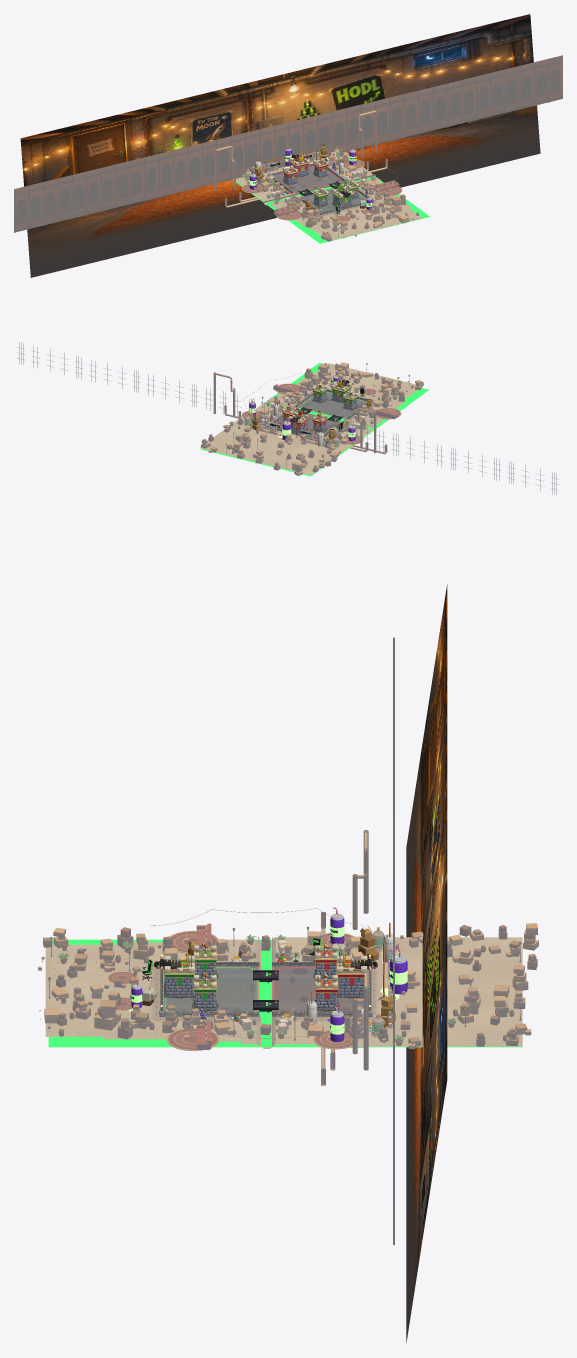
Rendered from arena_basement.glb.
3 views of the same model, one above another, from view 1: azimuth 30°, elevation 25°; view 2: azimuth 150°, elevation 25°; view 3: azimuth 270°, elevation 25° (orthographic). The views are drawn at different scales.
Visible parts, largest first — view 1: mesh (×21); view 2: mesh (×18); view 3: mesh (×17), body (×2).
Boxes of the visible parts, <box> form: mesh (×21): <box>14,14,562,277</box>; mesh (×18): <box>161,362,544,490</box>; mesh (×17): <box>38,584,538,1342</box>; body (×2): <box>164,946,367,997</box>.
Size of what is drawn, in the model's own units: 198 by 45.55 by 78.43.
71 materials, 8 textured.
